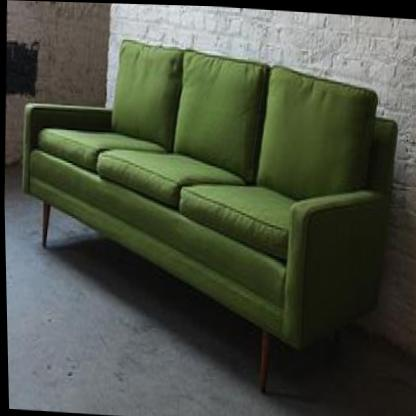Sofa: (7, 28, 406, 407)
